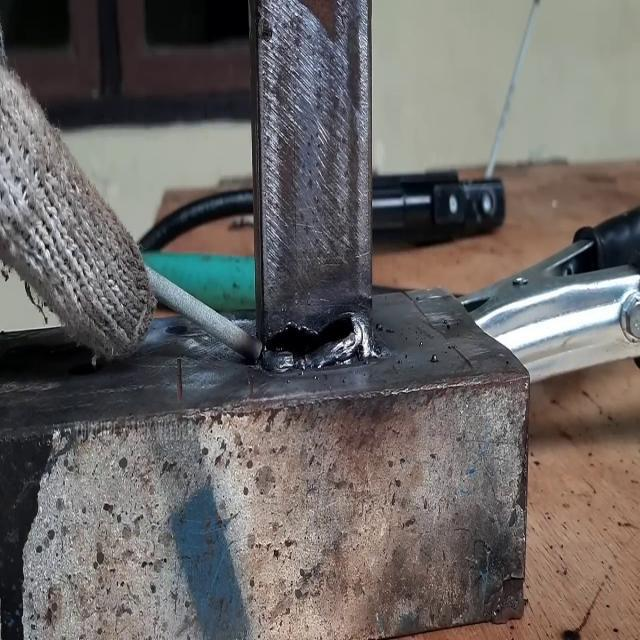Bad Welding: (259, 313, 378, 375)
